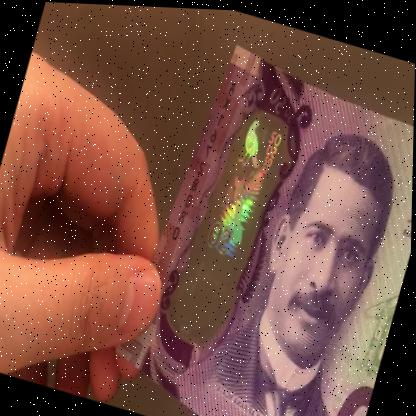50F: (179, 107, 292, 332)
